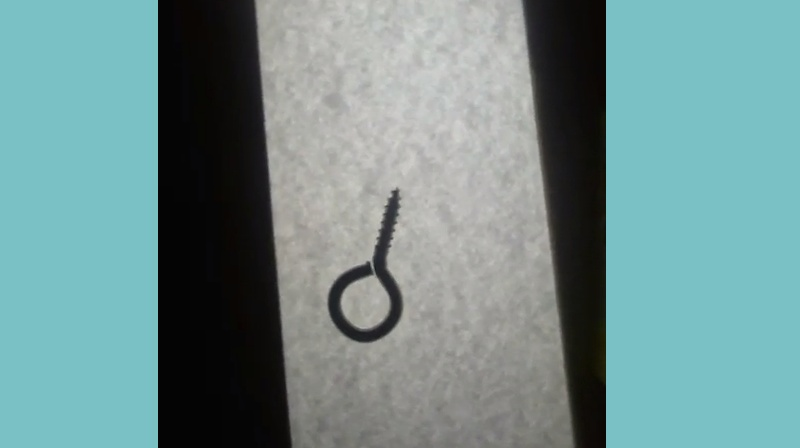O001: (323, 185, 402, 346)
